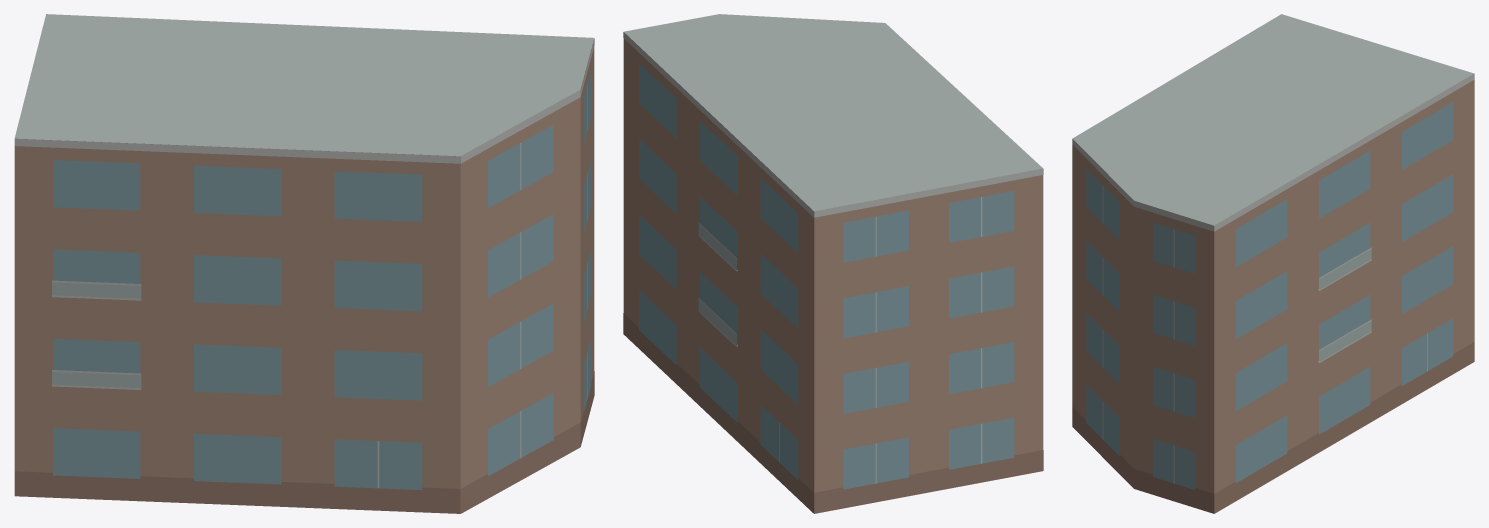
The model's file is survey-upis-32768396.glb.
3 views of the same model, side by side, from view 1: azimuth 30°, elevation 25°; view 2: azimuth 150°, elevation 25°; view 3: azimuth 270°, elevation 25° (orthographic). The views are drawn at different scales.
Visible parts, largest first — view 1: survey-upis-32768396.tmp; view 2: survey-upis-32768396.tmp; view 3: survey-upis-32768396.tmp.
Boxes of the visible parts, box(x1,y1,x2,y2) form: survey-upis-32768396.tmp: box(14, 14, 594, 513); survey-upis-32768396.tmp: box(623, 14, 1043, 513); survey-upis-32768396.tmp: box(1072, 14, 1474, 513).
Size of the model in its own units: 18.44 by 11.7 by 14.8.
